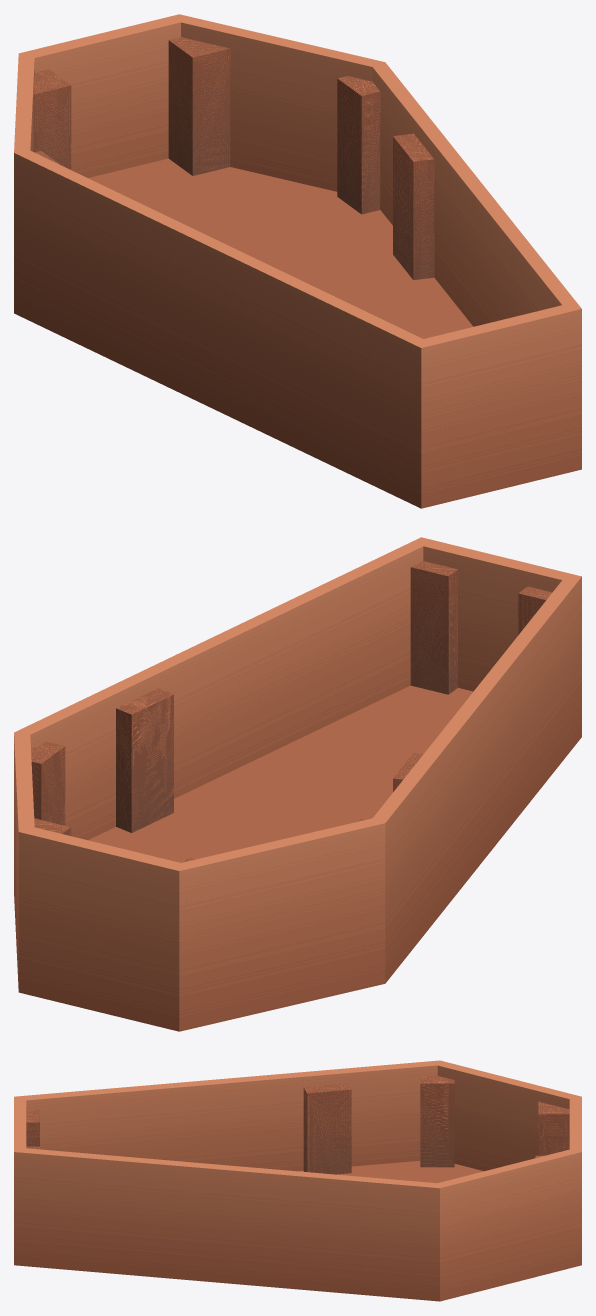
File: coffin_lev2.glb
3 renders of one model, top to bottom at view 1: azimuth 30°, elevation 25°; view 2: azimuth 150°, elevation 25°; view 3: azimuth 270°, elevation 25°, orthographic. The views are drawn at different scales.
Visible parts, largest first — view 1: coffin_lev2; view 2: coffin_lev2; view 3: coffin_lev2.
Boxes of the visible parts, left/top/right/bottom form: coffin_lev2: left=14, top=14, right=581, bottom=508; coffin_lev2: left=14, top=537, right=581, bottom=1031; coffin_lev2: left=14, top=1060, right=581, bottom=1301.
Size of the model in its own units: 1.28 by 0.5303 by 2.41.
Materials: 1 (1 with a texture image).
